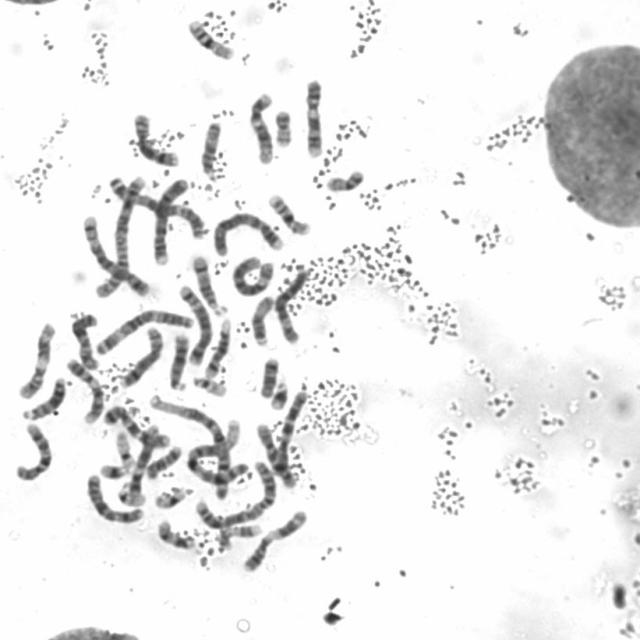A1: (145, 388, 239, 496), (182, 413, 244, 487)
A2: (89, 168, 147, 300), (190, 455, 279, 529)
A3: (104, 169, 209, 239), (91, 304, 196, 356)
B4: (148, 171, 192, 267), (207, 205, 287, 257)
B5: (76, 209, 152, 298), (174, 279, 215, 367)
C10: (251, 417, 301, 489), (10, 416, 54, 482)
C11: (236, 503, 310, 574), (13, 316, 58, 400)
C12: (121, 418, 163, 503), (243, 86, 277, 165)
C6: (270, 262, 312, 346), (228, 250, 276, 298)
C7: (268, 385, 310, 488), (99, 399, 173, 450)
C8: (116, 320, 166, 389), (128, 107, 182, 168)
C9: (60, 352, 106, 424), (299, 72, 326, 160)
D13: (16, 370, 68, 422), (164, 328, 192, 392)
D14: (185, 248, 227, 316), (199, 313, 234, 379)
D15: (196, 116, 224, 182), (246, 289, 277, 347)
E16: (182, 12, 237, 61), (264, 187, 312, 236)
E17: (210, 518, 264, 552), (153, 514, 199, 551)
E18: (142, 439, 184, 480), (254, 352, 282, 399)
F19: (110, 425, 137, 470), (149, 481, 187, 510)
F20: (322, 163, 366, 192), (268, 103, 295, 148)
G21: (265, 374, 291, 411), (95, 457, 130, 479)
G22: (187, 370, 229, 398), (112, 478, 148, 508)
X: (81, 468, 146, 525), (66, 307, 102, 371)
